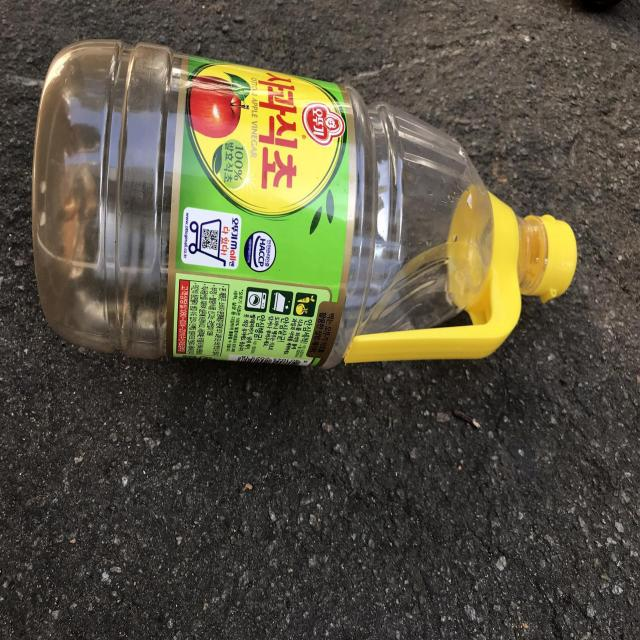plastic: (32, 39, 578, 367)
